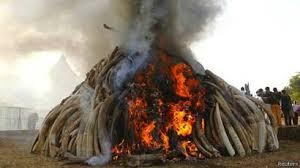fire: (123, 56, 210, 158)
